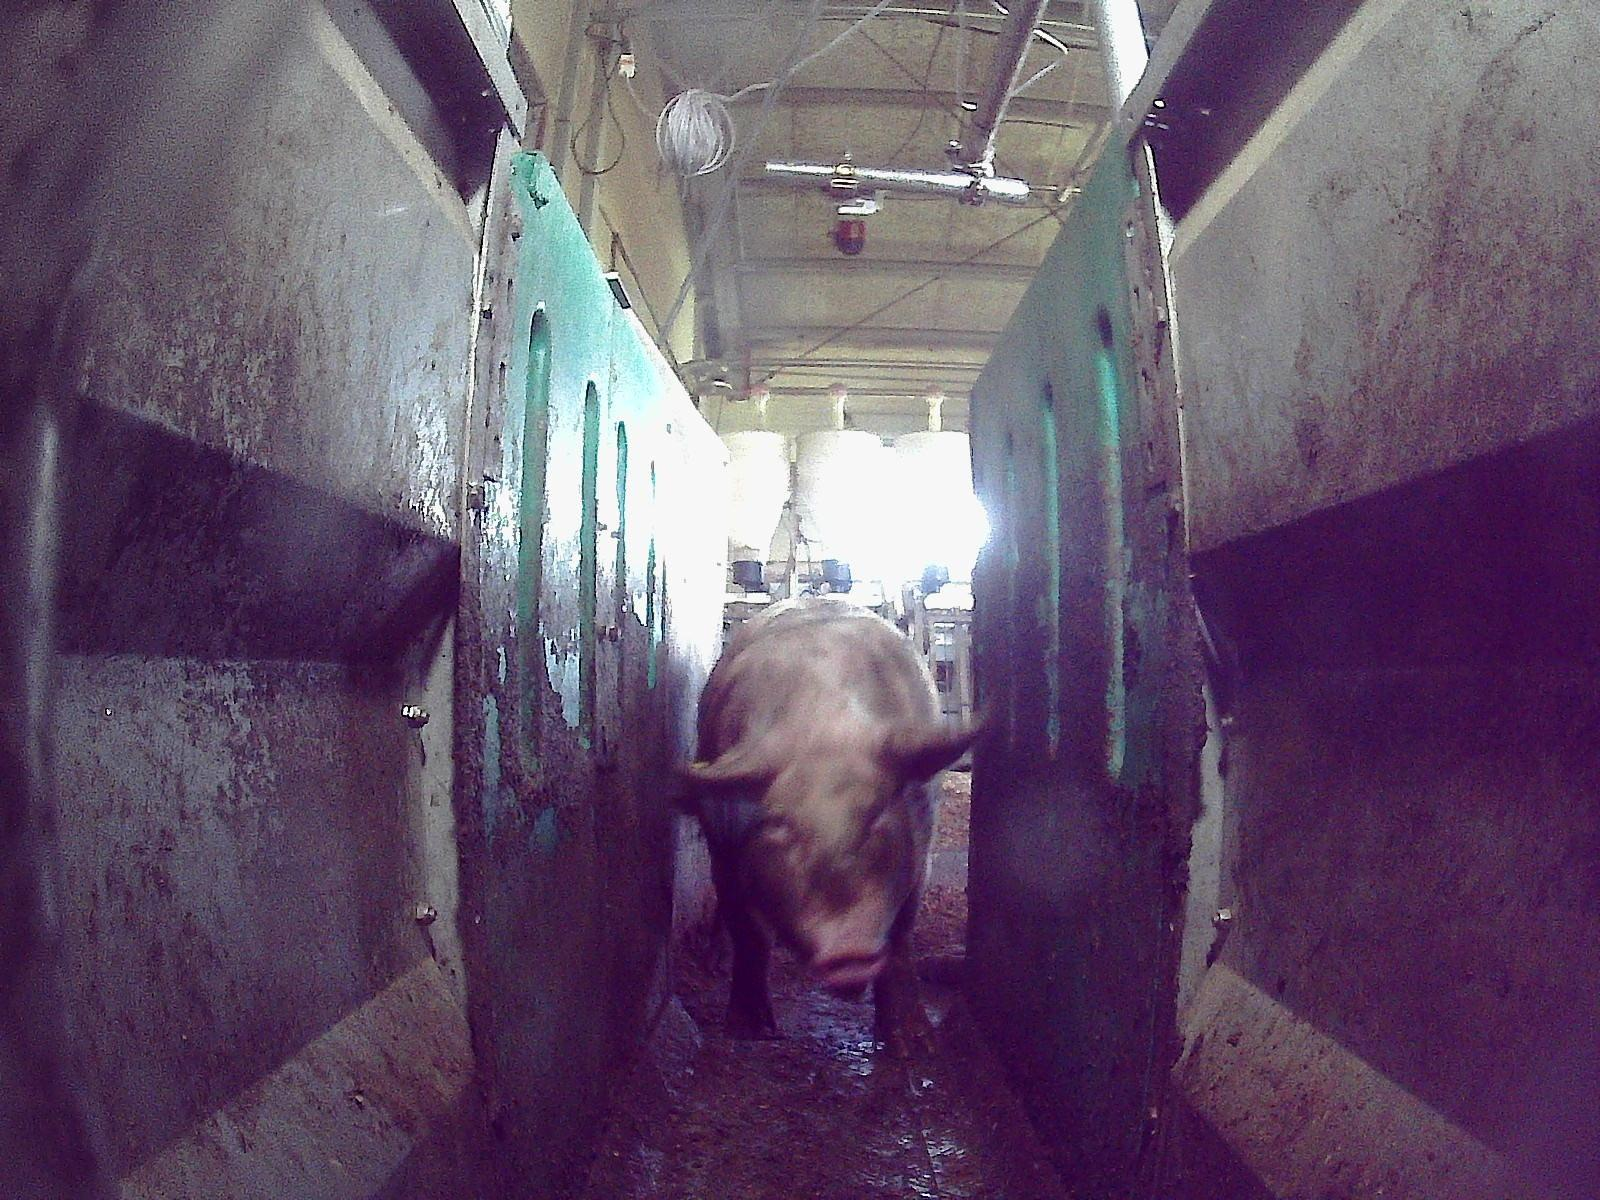Face: (741, 739, 916, 987)
